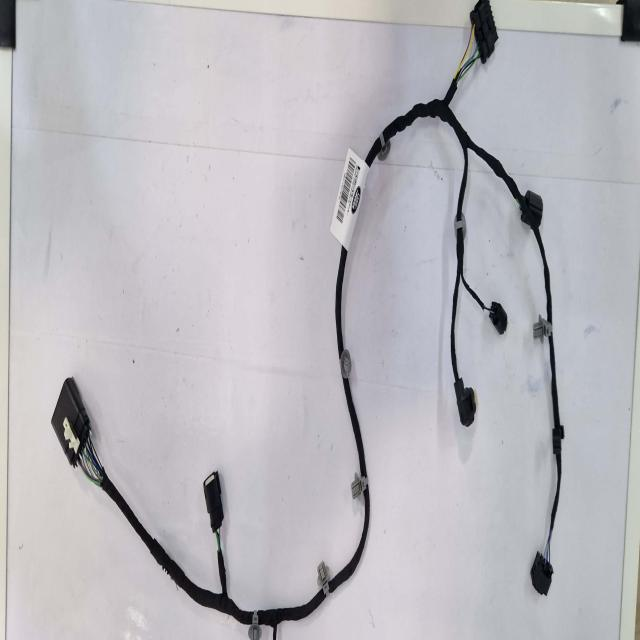Clip: (532, 315, 552, 340), (351, 474, 368, 499), (318, 562, 330, 596), (249, 610, 261, 640), (378, 133, 390, 162), (340, 349, 351, 380), (552, 426, 564, 454), (454, 213, 466, 238)
Connector: (51, 377, 90, 465), (470, 0, 498, 62), (204, 471, 224, 531), (454, 377, 478, 426), (531, 550, 552, 596), (520, 190, 542, 230), (489, 301, 508, 335)
Gape: (454, 20, 484, 87), (80, 432, 108, 498), (213, 519, 226, 559), (542, 526, 556, 561)
Info: (330, 148, 369, 250)
MHEV_N11_Cable: (382, 79, 562, 593), (102, 471, 250, 621), (329, 485, 370, 593), (259, 587, 325, 636), (344, 377, 366, 477), (335, 247, 348, 358)
